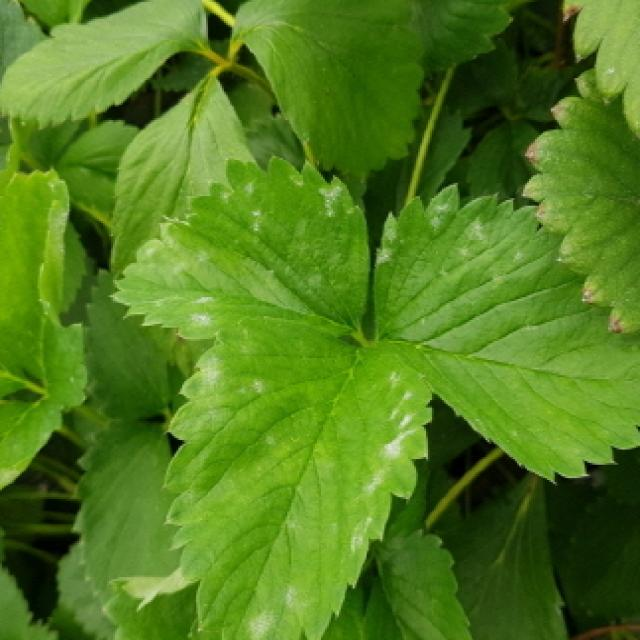Powdery Mildew Leaf: (158, 328, 436, 640), (373, 178, 640, 483), (105, 151, 371, 341)
